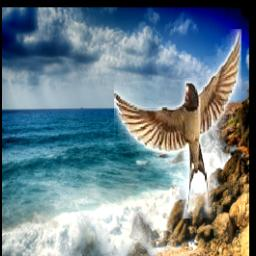Swallow: (114, 29, 242, 219)
